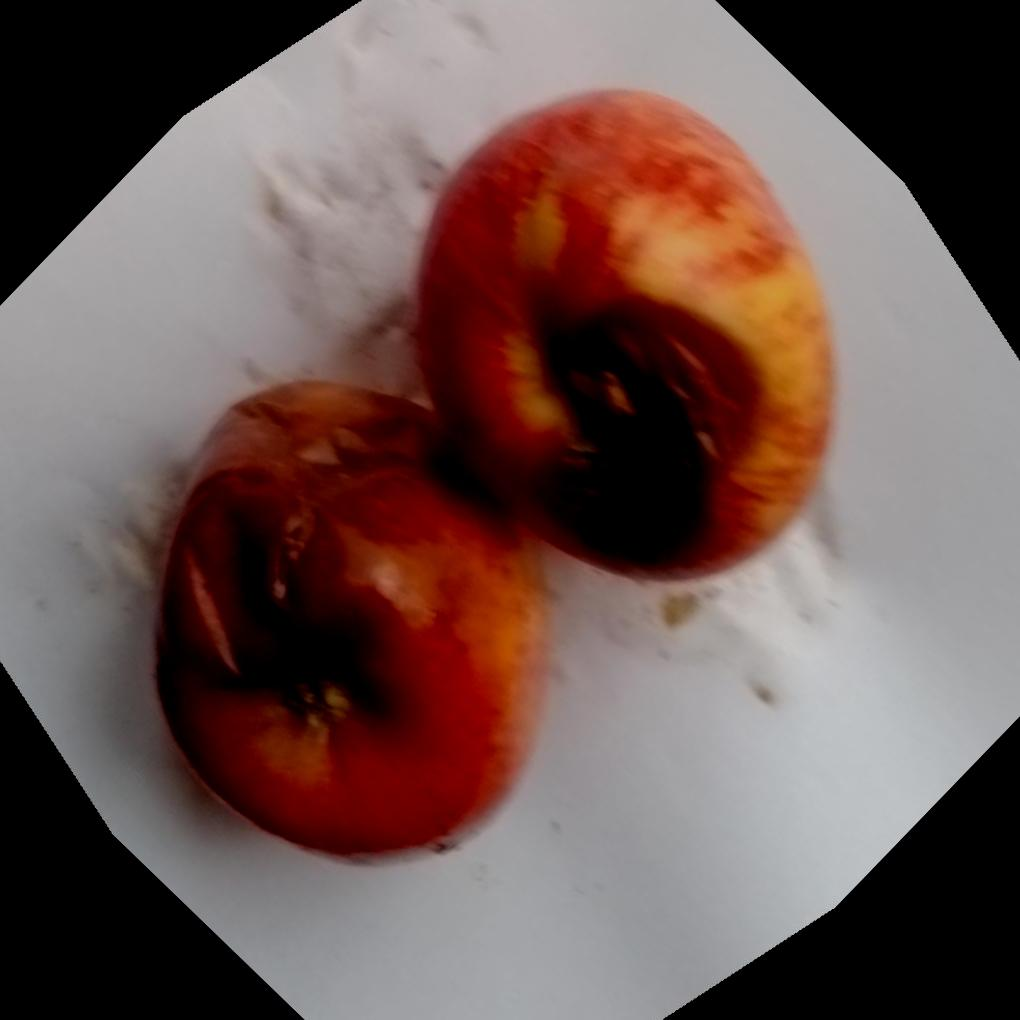FreshOrange: (156, 84, 835, 863)
